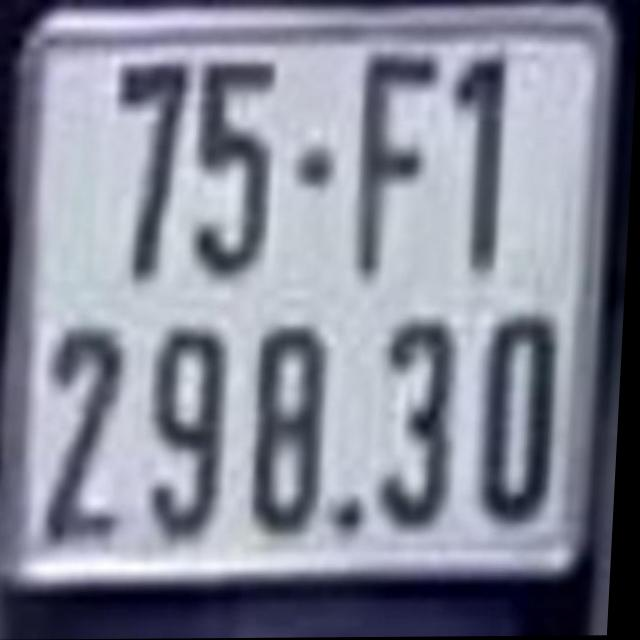0: (484, 305, 567, 522)
1: (456, 51, 510, 266)
2: (42, 321, 129, 541)
3: (389, 313, 465, 525)
5: (191, 59, 284, 282)
7: (107, 52, 182, 276)
8: (251, 320, 337, 525)
9: (159, 322, 228, 534)
F: (355, 38, 449, 302)
